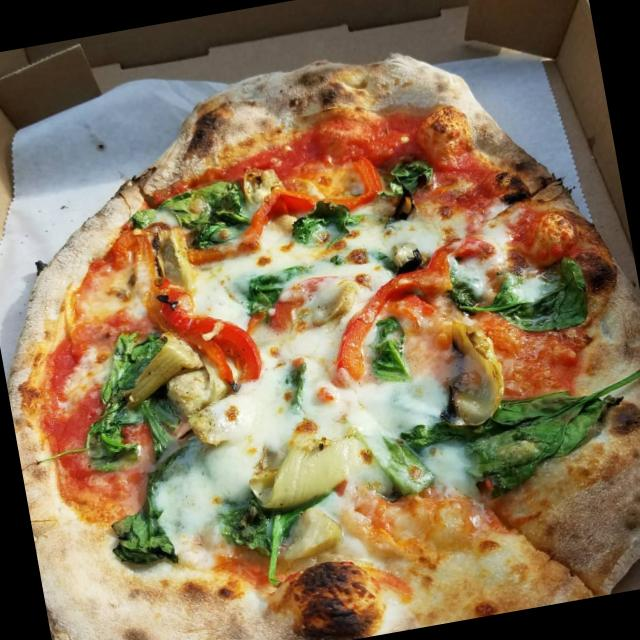peppers: (314, 224, 515, 384), (170, 154, 390, 266), (153, 266, 264, 401)
pizza: (7, 53, 640, 640)
